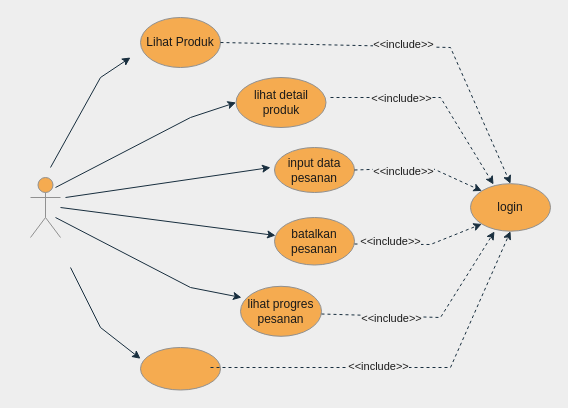
The diagram is 568 pixels wide and 408 high, and some of its shapes have lost their labels. Here are the shapes that lost their labels. From the top down, the centre of each, then its label:
[45,207]: Pelanggan
[180,368]: Upload bukti pembayaran
